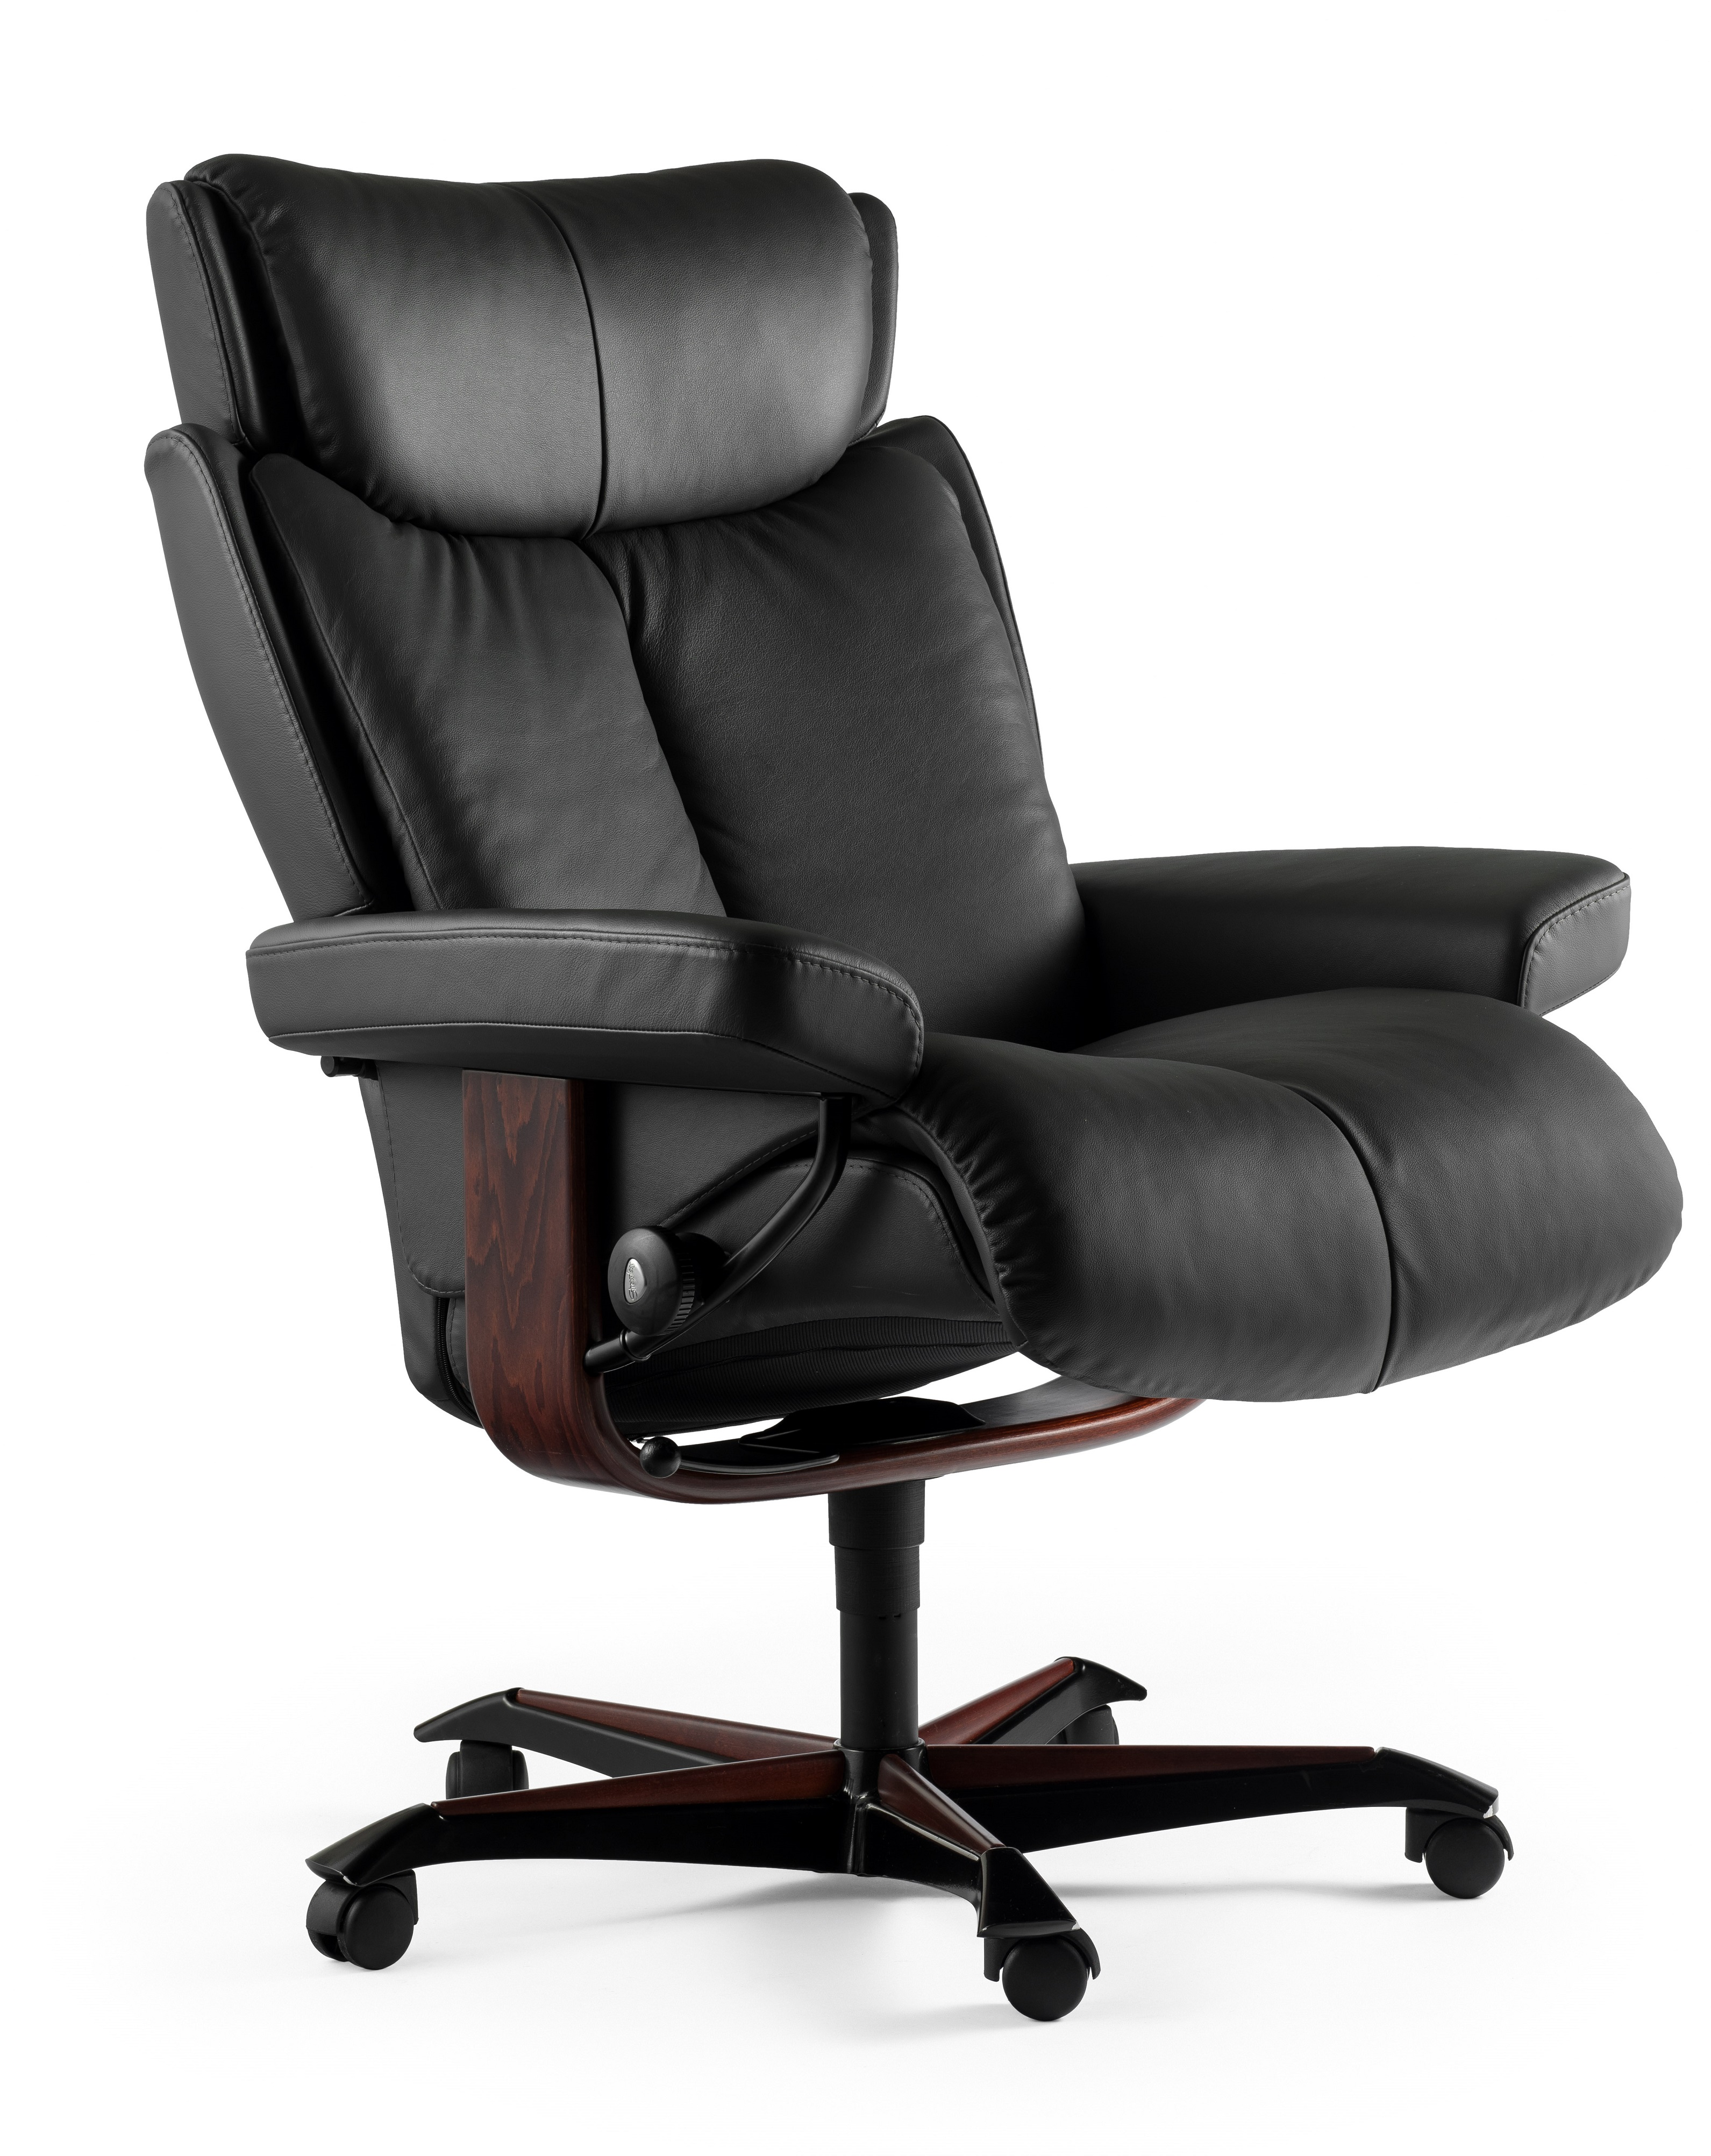chairs: (122, 142, 1678, 2028)
